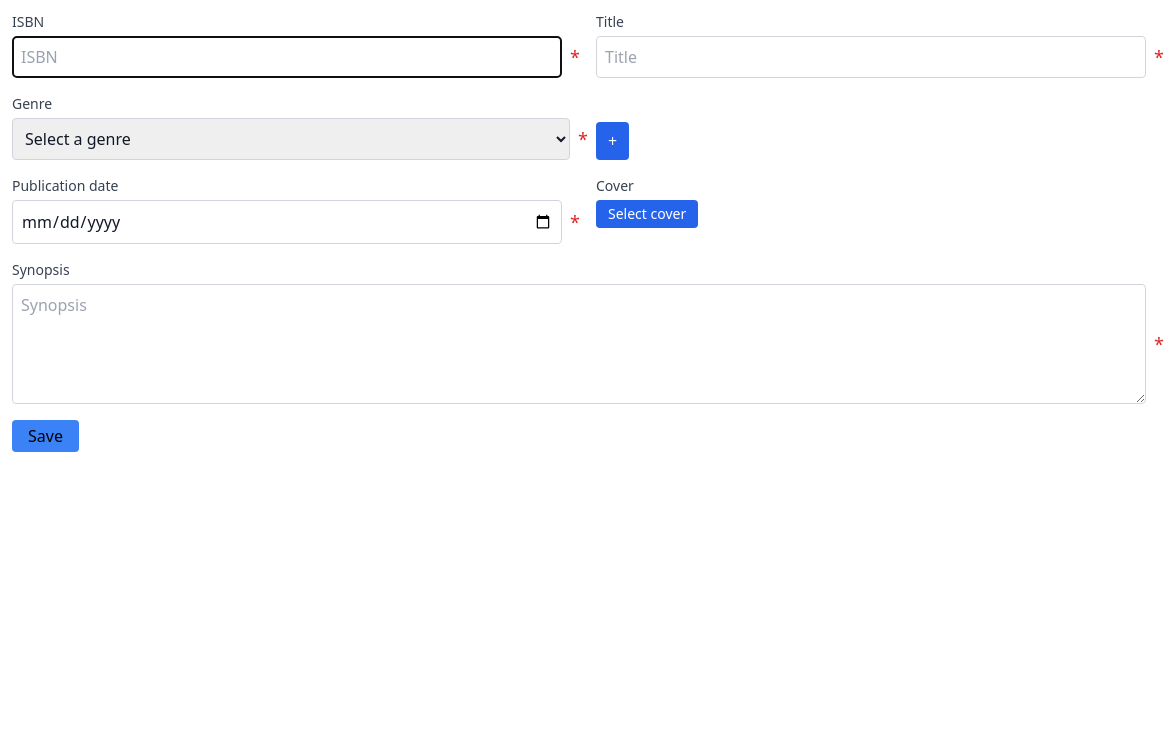
Test case: BookForm › should show errors if the form is submitted empty
Click the button "Save" at point(45, 436), box [12, 420, 79, 452]
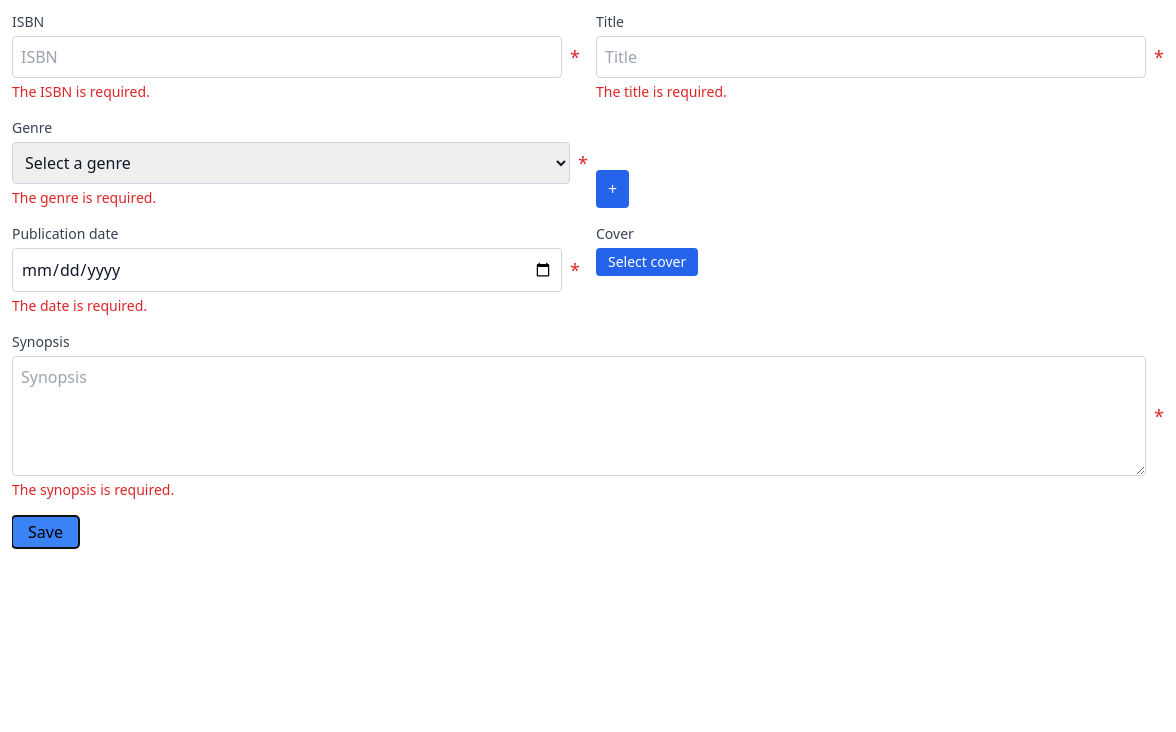
Now the text "The ISBN is required." is shown, box [12, 82, 150, 101]
Now the text "The title is required." is shown, box [596, 82, 727, 101]
Now the text "The genre is required." is shown, box [12, 188, 156, 207]
